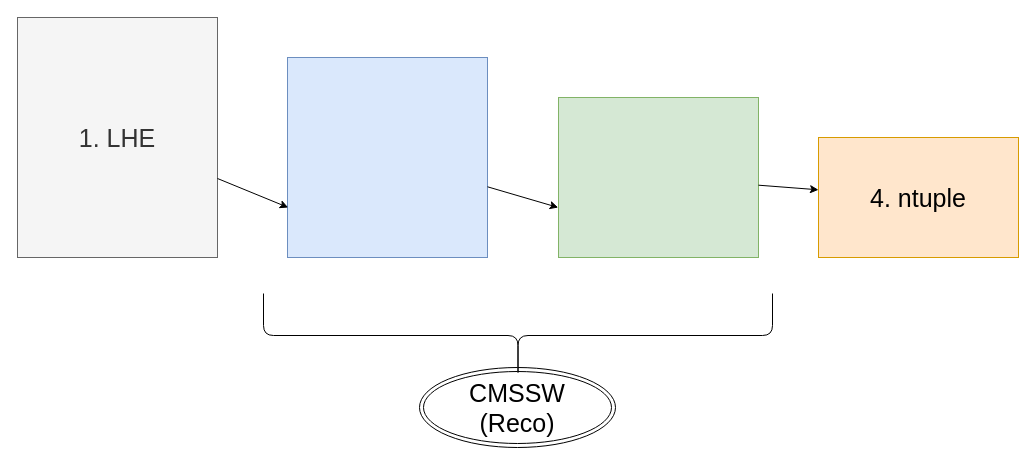
This 1036x465 diagram has some shape labels left out. Each missing label, with the centre of its shape:
"2. GENSIM" goes at (387,157).
"3. AOD" goes at (658,177).
